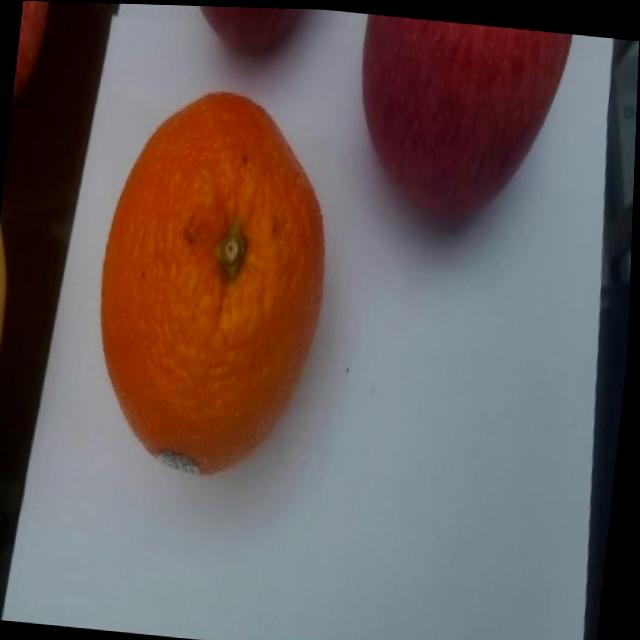Apple: (345, 12, 572, 228)
Orange: (84, 81, 344, 486)
